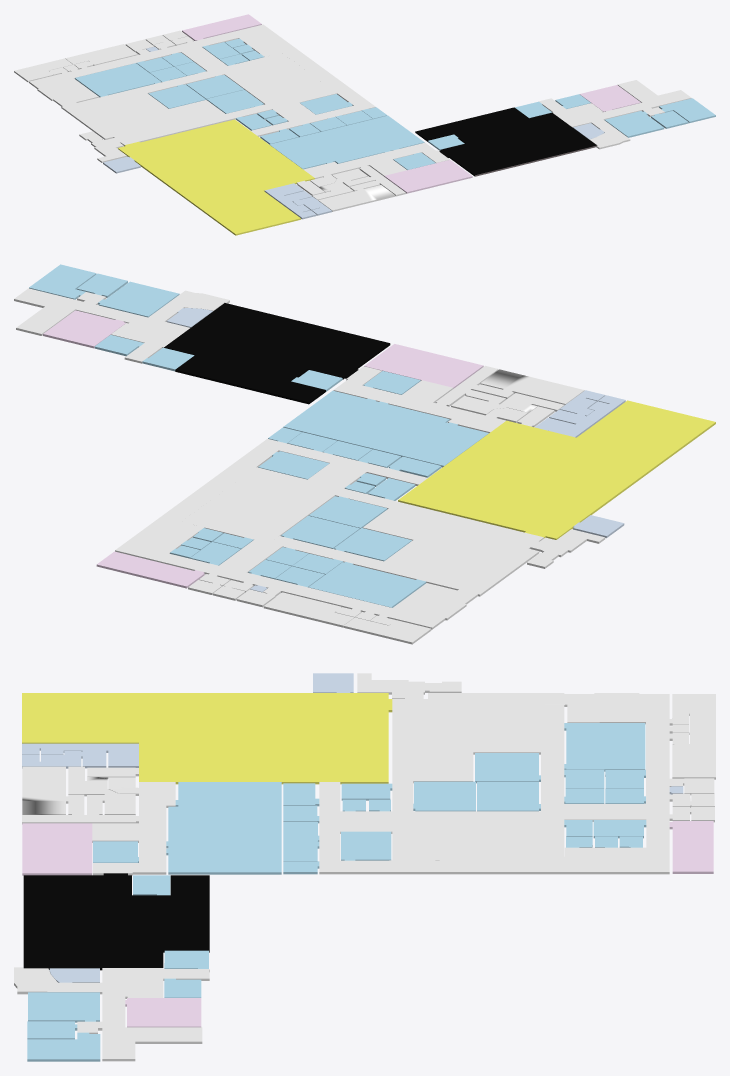
Rendered from Floors-South.fbx.
3 renders of one model, top to bottom at view 1: azimuth 30°, elevation 25°; view 2: azimuth 150°, elevation 25°; view 3: azimuth 270°, elevation 25°, orthographic. The views are drawn at different scales.
Parts seen in each view (by area): view 1: polySurface75, polySurface15, Techbar, A_C01042, polySurface29, polySurface90, Kitchen, Bathroom_Canteen, polySurface40, PoolRoom, polySurface77, Kitchen_Utility (+15 smaller); view 2: polySurface75, polySurface15, Techbar, A_C01042, polySurface29, polySurface90, Kitchen, Bathroom_Canteen, polySurface40, PoolRoom, polySurface77, Kitchen_Utility (+22 smaller); view 3: polySurface75, polySurface15, Techbar, A_C01042, polySurface29, polySurface90, Kitchen, Bathroom_Canteen, polySurface40, PoolRoom, polySurface77, Kitchen_Utility (+31 smaller).
Part boxes in pixels (left/top/right/bottom): polySurface75: left=29, top=32, right=336, bottom=162; polySurface15: left=118, top=119, right=314, bottom=207; Techbar: left=415, top=107, right=596, bottom=176; A_C01042: left=269, top=115, right=424, bottom=169; polySurface29: left=231, top=24, right=375, bottom=136; polySurface90: left=539, top=80, right=691, bottom=149; Kitchen: left=198, top=191, right=300, bottom=235; Bathroom_Canteen: left=312, top=165, right=405, bottom=211; polySurface40: left=75, top=63, right=161, bottom=97; PoolRoom: left=384, top=160, right=472, bottom=193; polySurface77: left=338, top=143, right=449, bottom=176; Kitchen_Utility: left=264, top=183, right=331, bottom=219; polySurface75: left=158, top=467, right=605, bottom=629; polySurface15: left=398, top=420, right=664, bottom=539; Techbar: left=164, top=303, right=390, bottom=404; A_C01042: left=283, top=390, right=488, bottom=467; polySurface29: left=115, top=439, right=427, bottom=561; polySurface90: left=14, top=288, right=229, bottom=363; Kitchen: left=577, top=400, right=715, bottom=460; Bathroom_Canteen: left=435, top=365, right=584, bottom=415; polySurface40: left=308, top=562, right=426, bottom=607; PoolRoom: left=364, top=344, right=483, bottom=388; polySurface77: left=333, top=366, right=463, bottom=419; Kitchen_Utility: left=535, top=390, right=625, bottom=437; polySurface75: left=357, top=673, right=669, bottom=860; polySurface15: left=139, top=693, right=392, bottom=784; Techbar: left=23, top=873, right=209, bottom=970; A_C01042: left=166, top=782, right=281, bottom=874; polySurface29: left=319, top=782, right=669, bottom=874; polySurface90: left=14, top=967, right=209, bottom=1061; Kitchen: left=22, top=693, right=138, bottom=743; Bathroom_Canteen: left=22, top=766, right=138, bottom=824; polySurface40: left=564, top=723, right=645, bottom=771; PoolRoom: left=22, top=823, right=92, bottom=875; polySurface77: left=92, top=805, right=166, bottom=875; Kitchen_Utility: left=22, top=743, right=138, bottom=768.
Size of the model in its own units: 7.92 by 0.0238 by 6.09.
